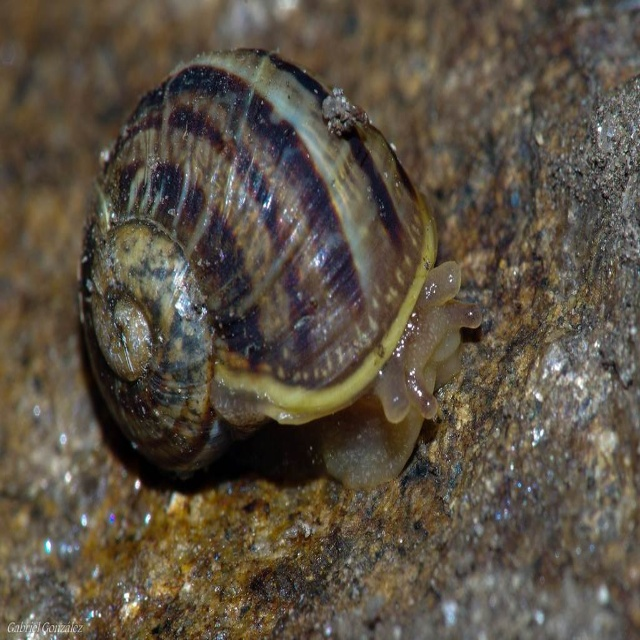Snail: (72, 46, 484, 495)
